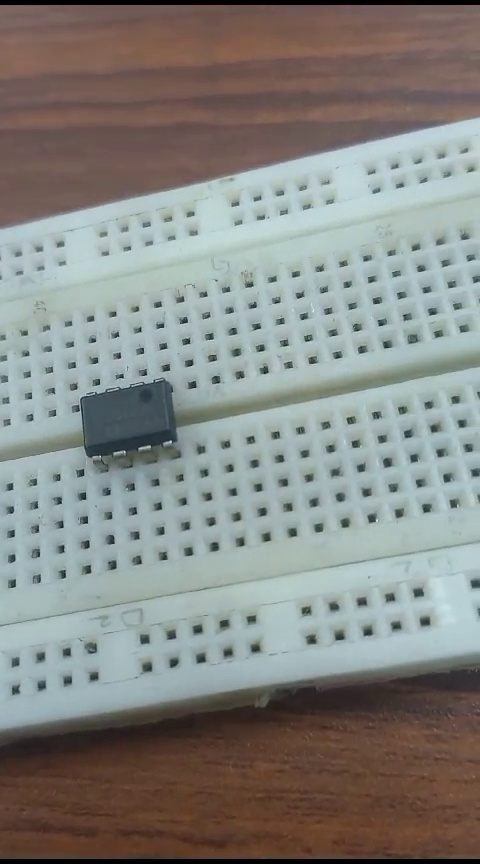IC: (58, 379, 190, 467)
